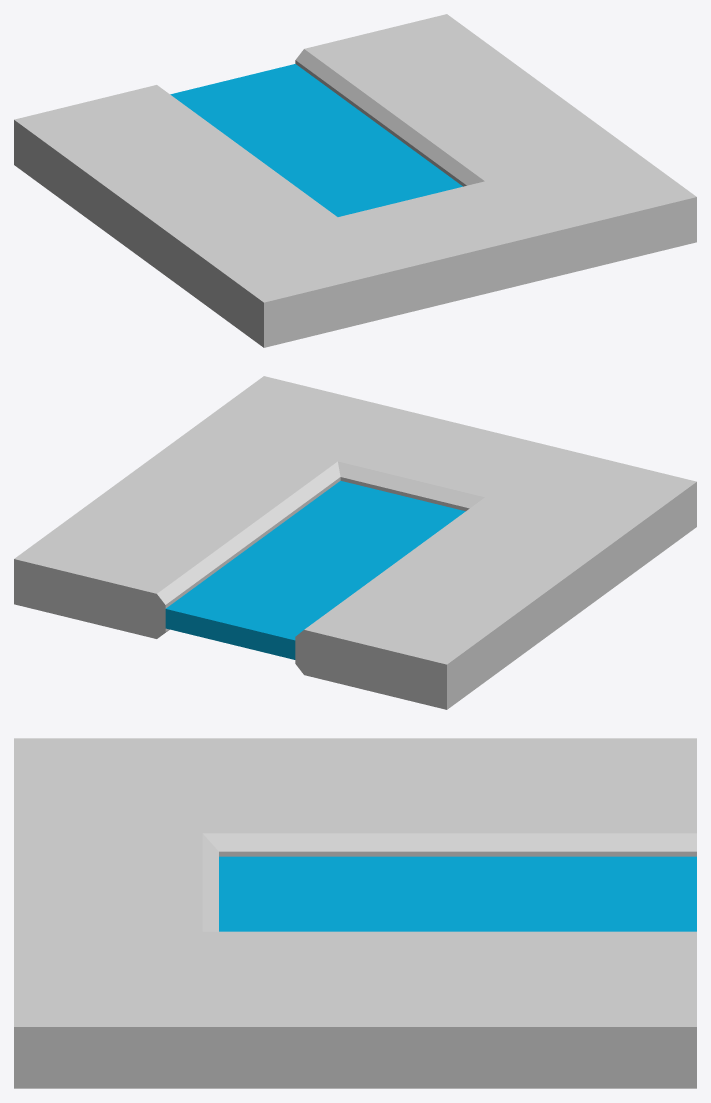
The model's file is K1_ceiling_121.fbx.
3 views of the same model, one above another, from view 1: azimuth 30°, elevation 25°; view 2: azimuth 150°, elevation 25°; view 3: azimuth 270°, elevation 25° (orthographic). The views are drawn at different scales.
Parts seen in each view (by area): view 1: group1_polySurface43; view 2: group1_polySurface43; view 3: group1_polySurface43.
Boxes of the visible parts, x1=… form: group1_polySurface43: x1=14, y1=14, x2=696, y2=347; group1_polySurface43: x1=14, y1=376, x2=696, y2=709; group1_polySurface43: x1=14, y1=738, x2=696, y2=1088.
Bounding box in the file's own units: 20 × 2 × 20.
